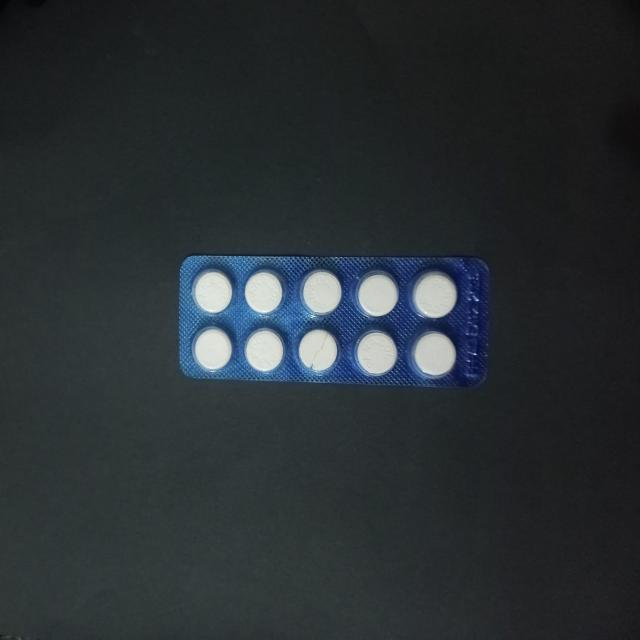defect: (297, 327, 341, 374)
